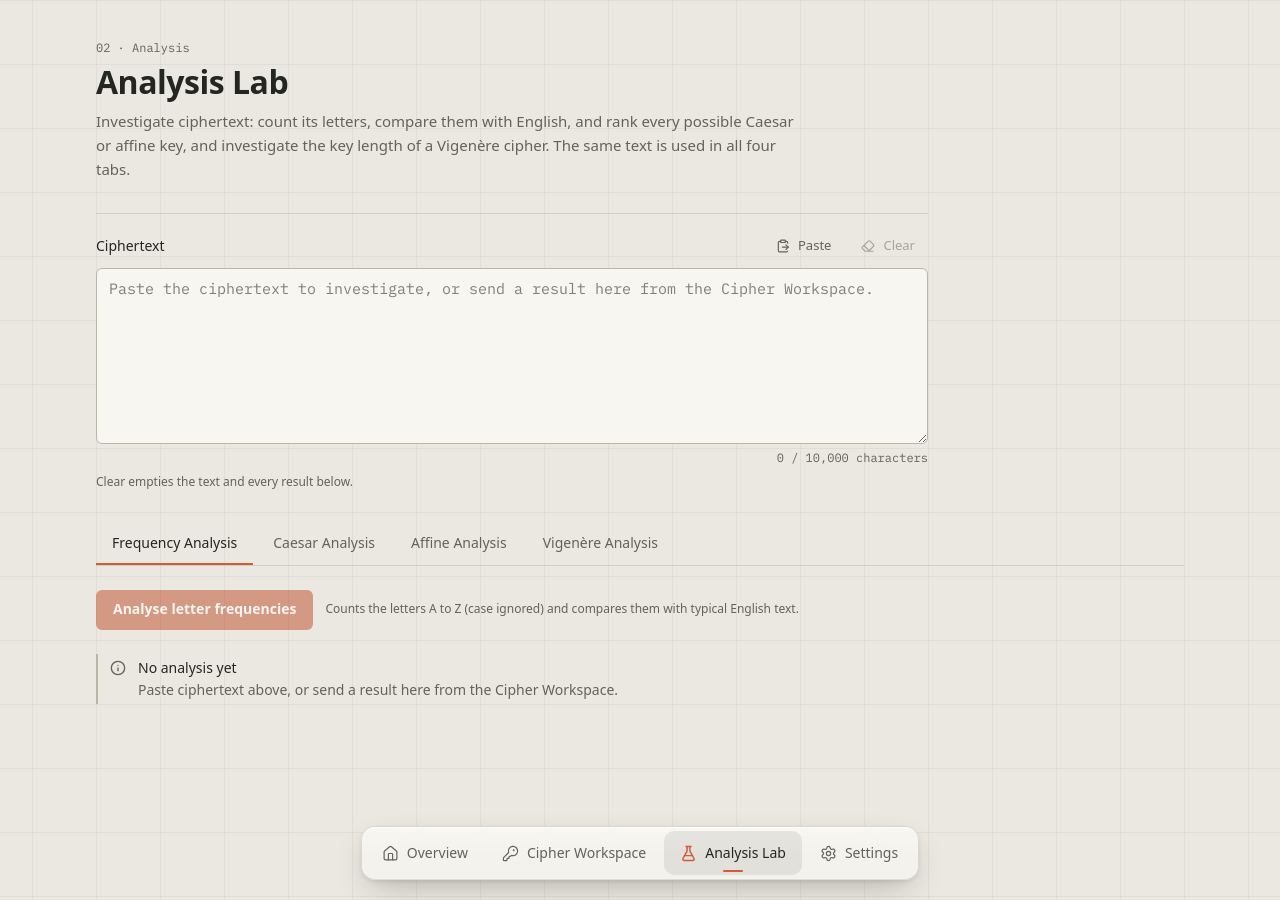
Test: the Vigenère tab › explains the method and the evidence labels before any run
Click the tab "Vigenère Analysis" at (600, 544), box [527, 523, 674, 565]
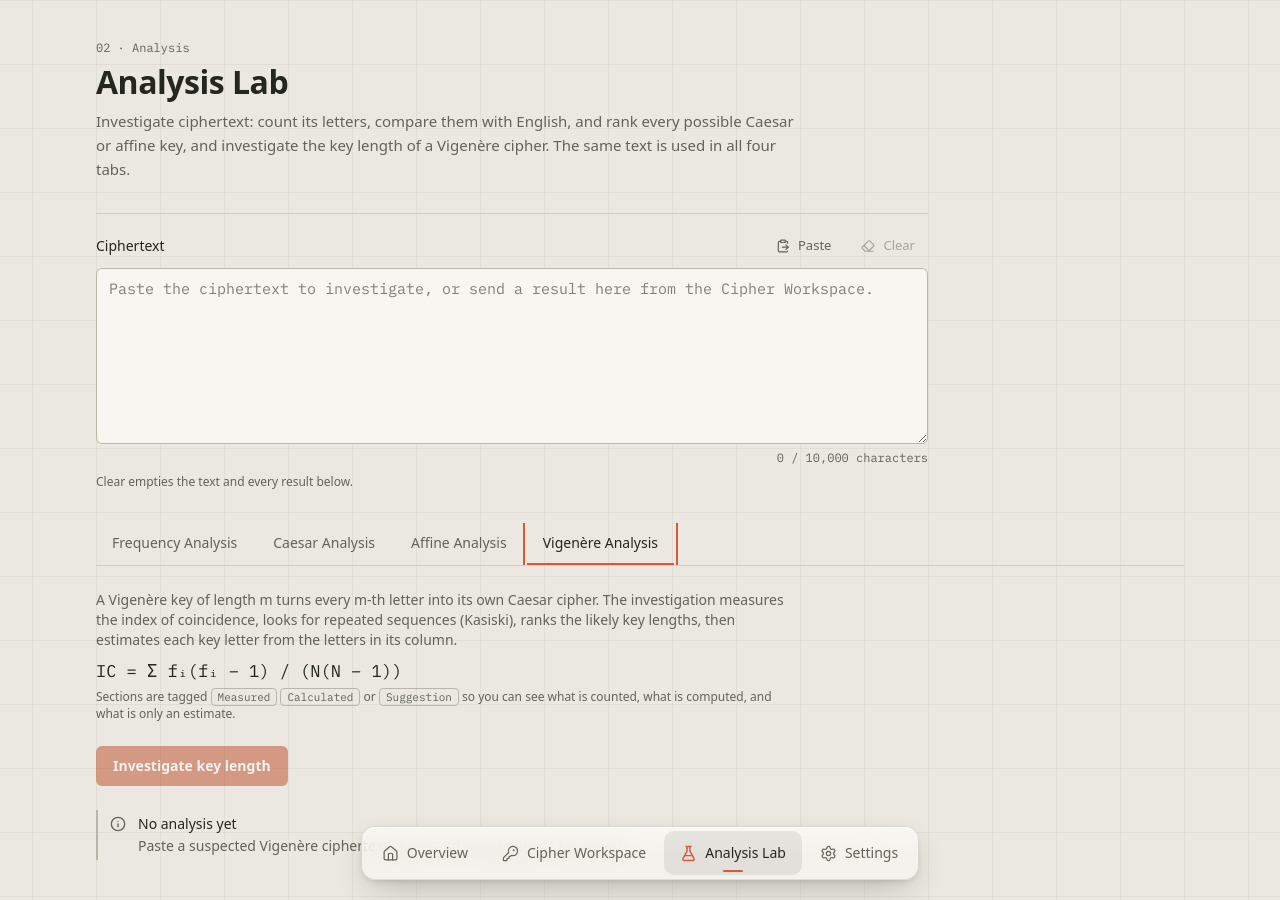
Check: the text "No analysis yet" is shown, box [138, 814, 237, 833]
Check: the text "turns every m-th letter into its own Caesar cipher" is shown, box [96, 590, 784, 649]
Check: the text "IC = Σ fᵢ(fᵢ − 1) / (N(N − 1))" is shown, box [96, 660, 402, 682]
